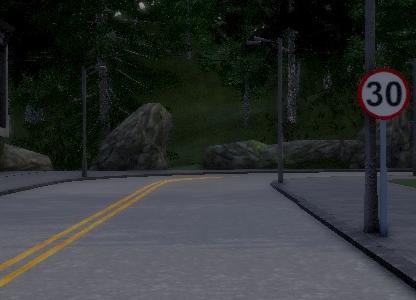Speed_30: (357, 68, 412, 117)
